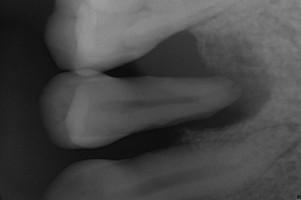Dental Caries: (170, 30, 272, 130)
